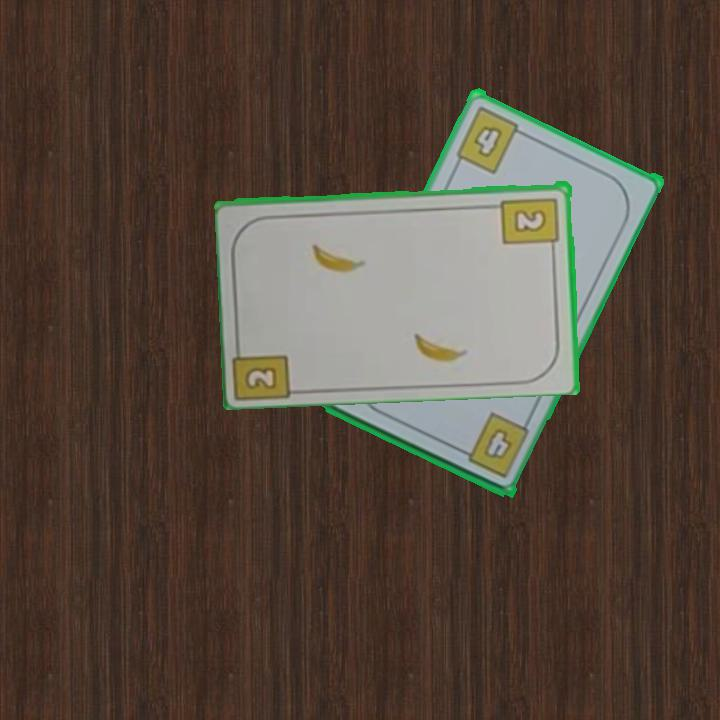2b: (499, 193, 562, 254), (241, 363, 281, 392)
4b: (452, 101, 531, 176), (453, 408, 532, 481)
